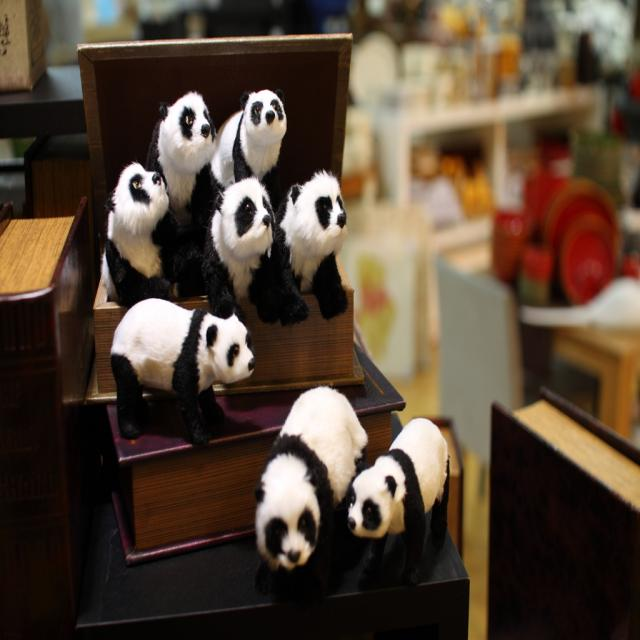panda: (109, 293, 256, 452), (252, 382, 369, 576), (344, 418, 452, 565), (200, 177, 288, 326), (98, 162, 180, 307), (144, 89, 216, 253), (272, 168, 348, 320), (204, 84, 279, 206)
